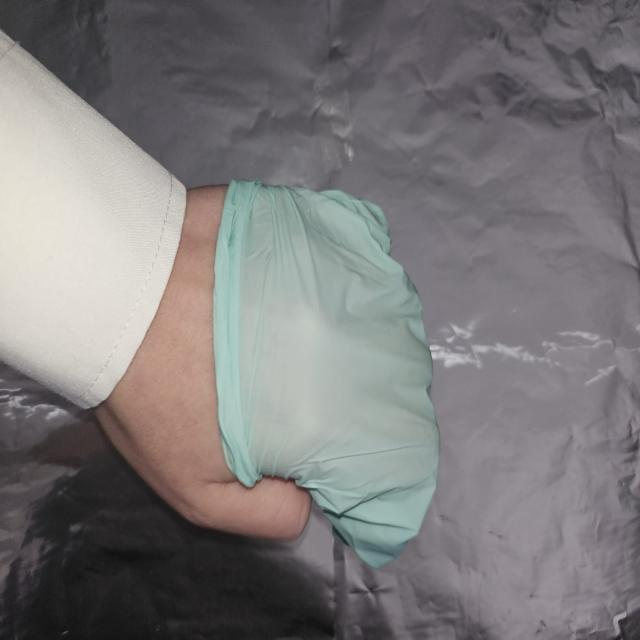glove_partial: (104, 180, 440, 570)
